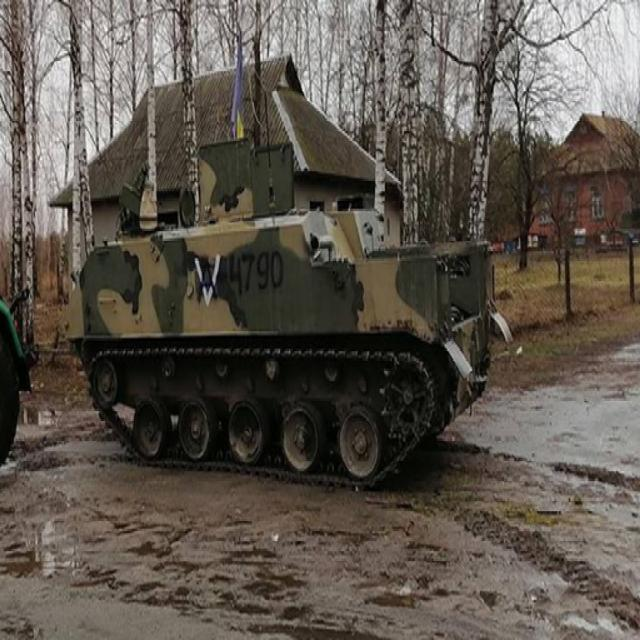APC-IFV: (67, 142, 495, 500)
